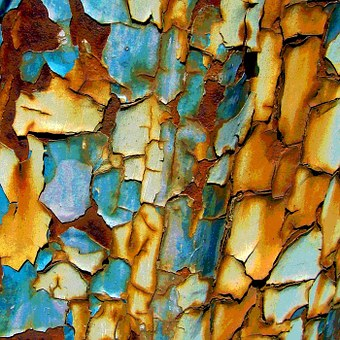rust: (2, 1, 120, 155), (184, 62, 234, 255), (260, 75, 304, 212), (35, 196, 129, 259), (2, 326, 64, 340)
